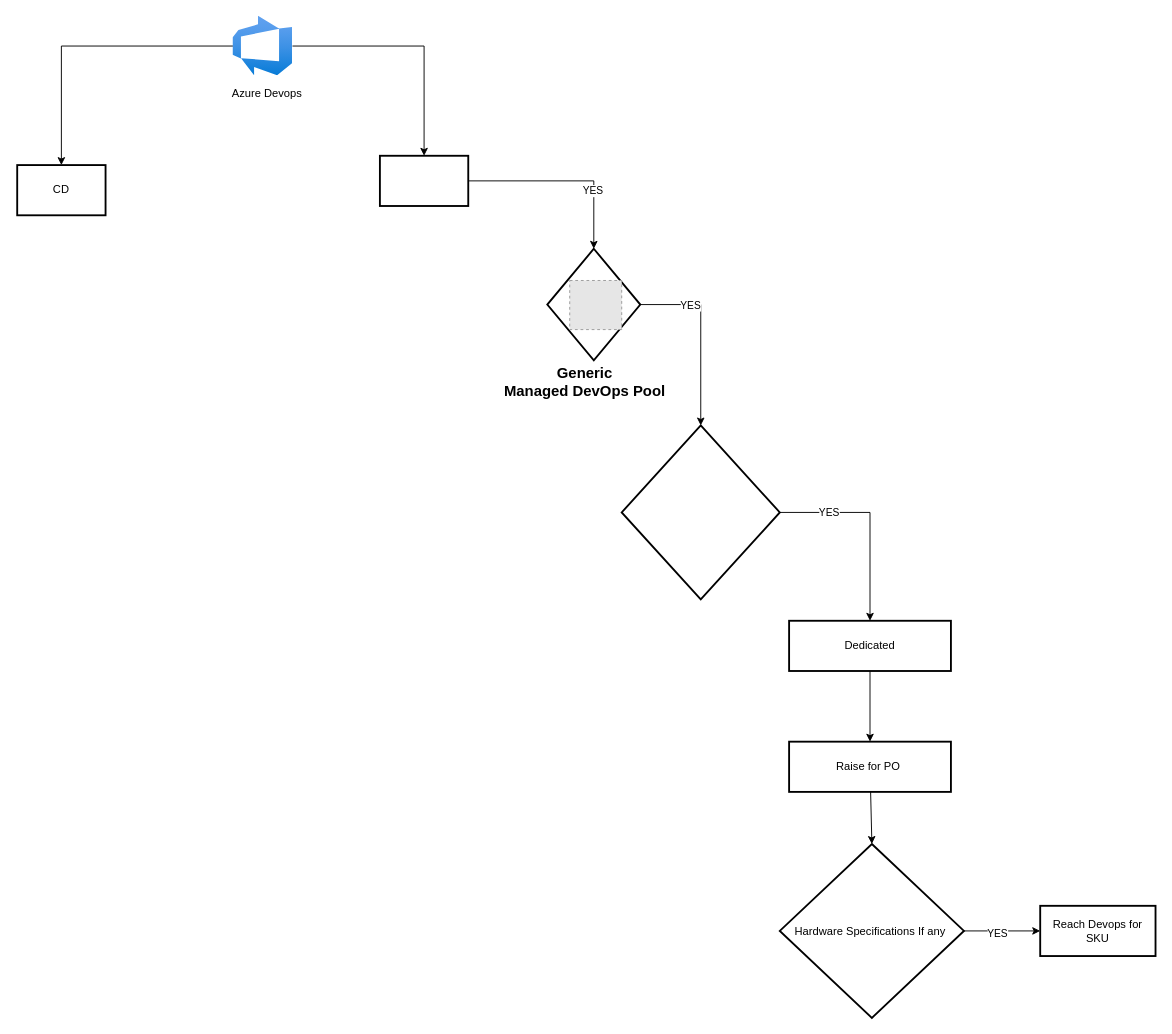
This 1172x1034 diagram has some shape labels left out. Grey dashed boxes stand in for pictures. The centre of each missing label's shape, as x and y in pixels:
"CI" belongs at point 424,180.
"Noisy/High Queue" belongs at point 700,512.
